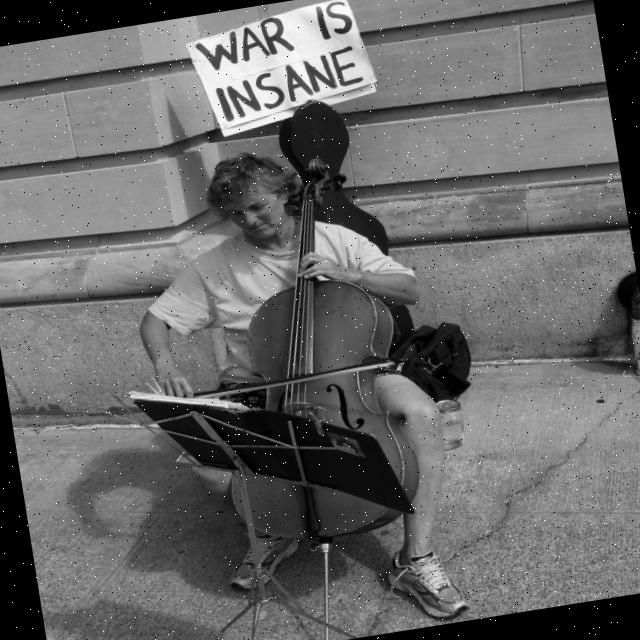cello: (182, 150, 428, 553)
